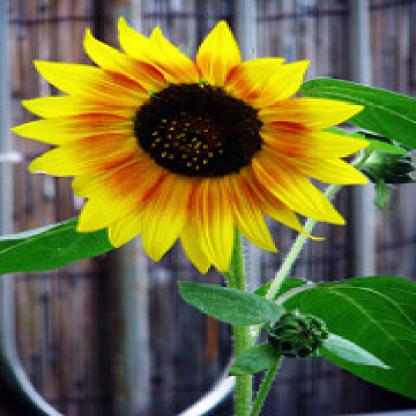SUN FLOWER: (22, 8, 364, 313)
